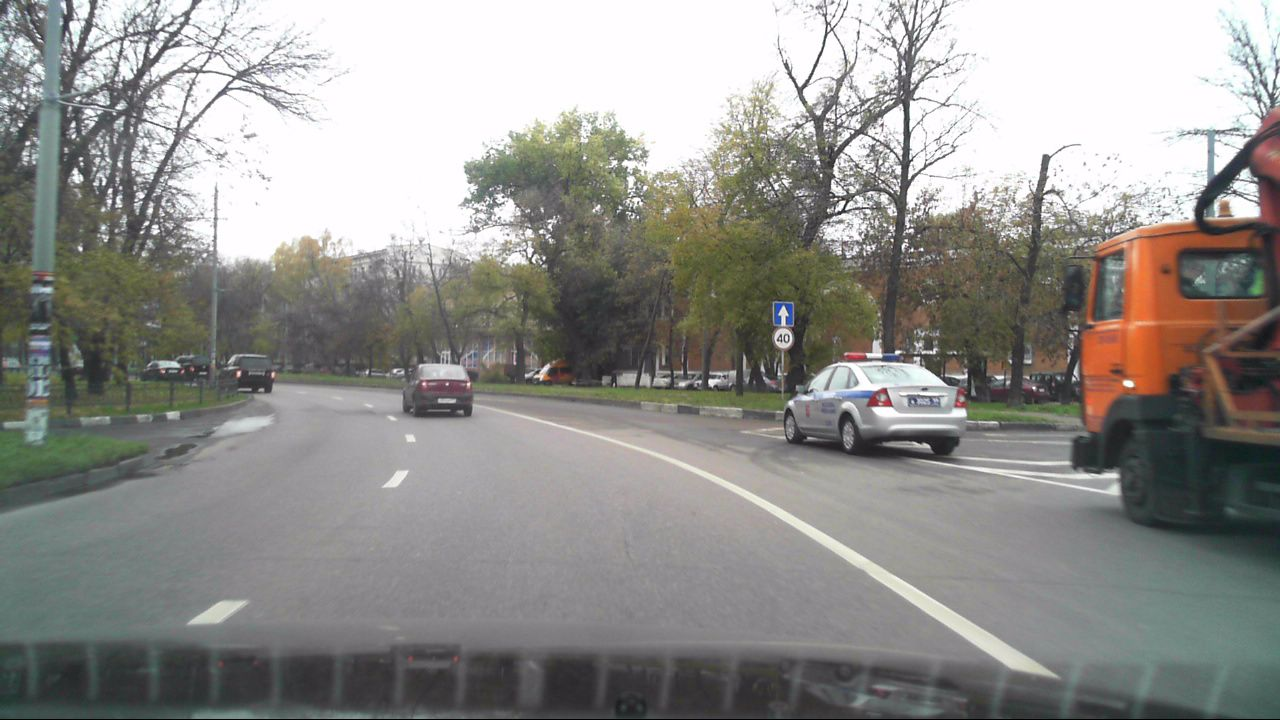speed_warning_40: (771, 326, 795, 350)
